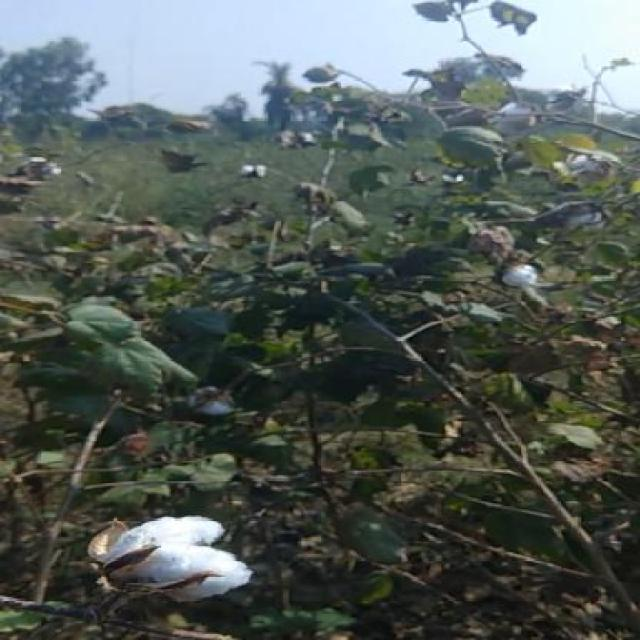cotton_ready: (85, 511, 263, 622)
